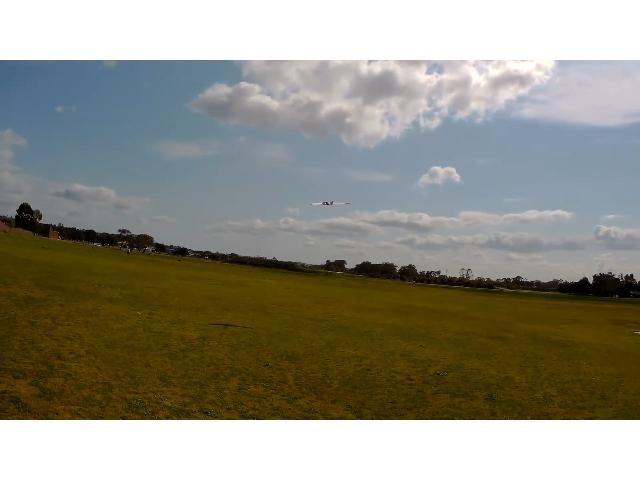Anti-Drone: (310, 199, 352, 206)
